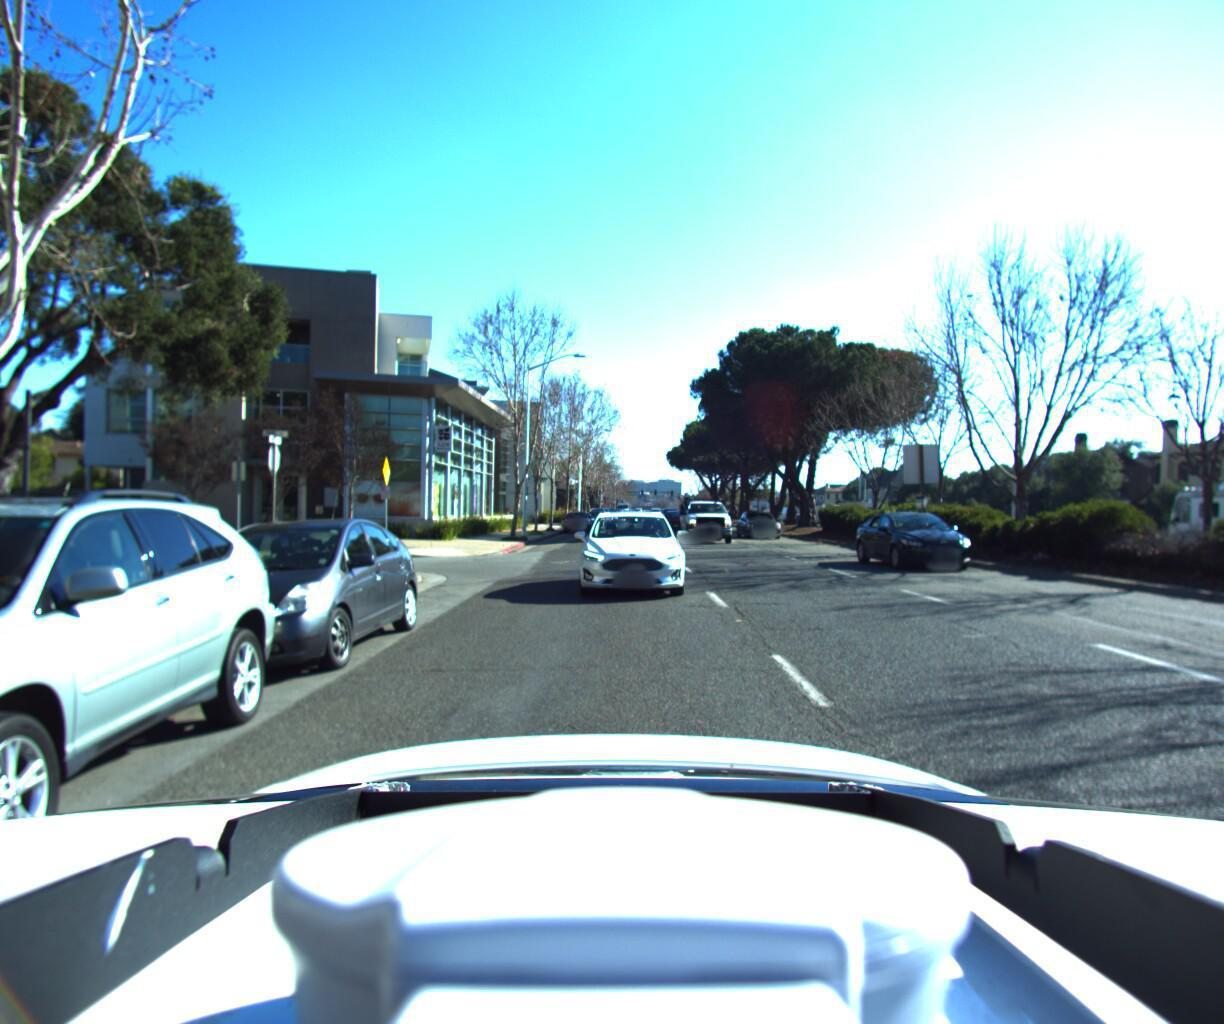car: (0, 428, 310, 1024), (106, 498, 438, 690), (566, 508, 684, 607), (855, 507, 997, 574), (679, 487, 739, 543), (737, 510, 788, 541), (559, 505, 595, 531), (648, 506, 683, 532)
other_vehicle: (1152, 454, 1224, 567)
